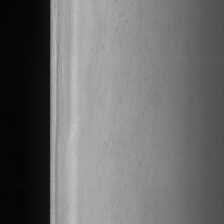silk_spot: (83, 0, 148, 176)
